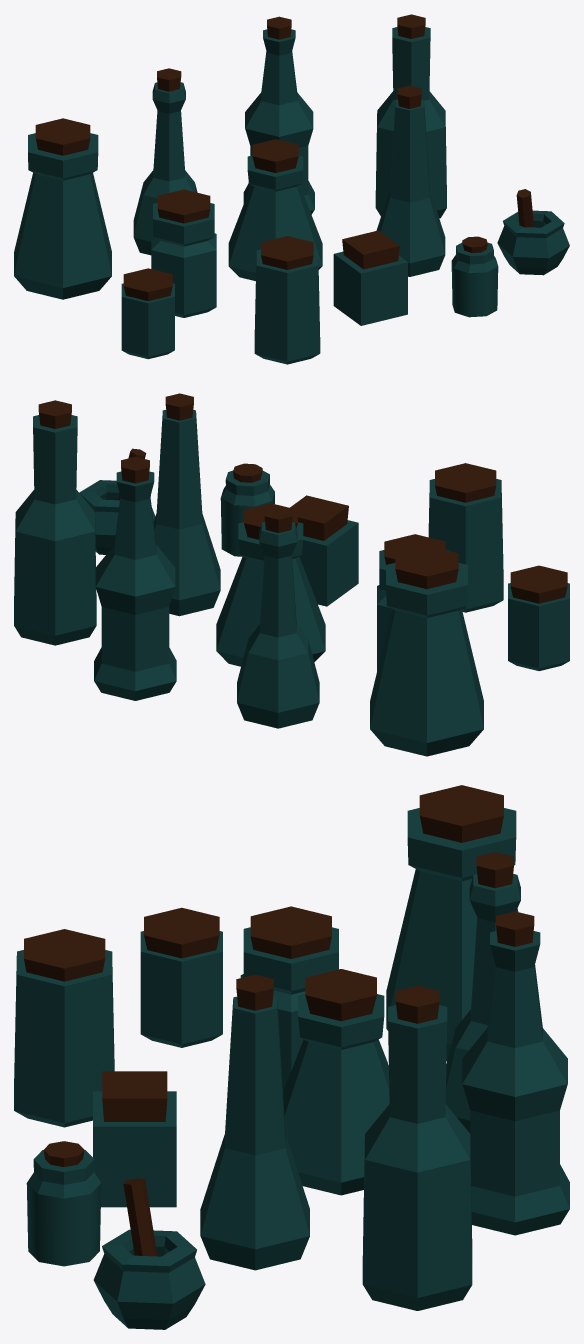
Rendered from Potions.fbx.
The picture shows the model from 3 angles, top to bottom: view 1: azimuth 30°, elevation 25°; view 2: azimuth 150°, elevation 25°; view 3: azimuth 270°, elevation 25°; orthographic projection. The views are drawn at different scales.
Parts seen in each view (by area): view 1: Cylinder1327, Cylinder1326, Cylinder1329, Cylinder021, Cylinder022, Cylinder1328, Cylinder003, Box028, Cylinder002, Cylinder024, ItemF_1531, Cylinder016 (+1 smaller); view 2: Cylinder1327, Cylinder1328, Cylinder003, Cylinder002, Cylinder1329, Cylinder1326, Cylinder021, Cylinder024, Box028, Cylinder016, ItemF_1531, Cylinder022 (+1 smaller); view 3: Cylinder1328, Cylinder003, Cylinder1329, Cylinder021, Cylinder1327, Cylinder1326, Cylinder024, Box028, Cylinder022, ItemF_1531, Cylinder016, Cylinder002 (+2 smaller).
Part boxes in pixels (x1,y1,x2,y2): Cylinder1327: (14,118,111,299); Cylinder1326: (254,236,320,364); Cylinder1329: (376,85,445,276); Cylinder021: (228,139,322,281); Cylinder022: (151,189,216,317); Cylinder1328: (375,14,446,218); Cylinder003: (243,16,314,214); Box028: (333,230,407,325); Cylinder002: (133,68,197,255); Cylinder024: (121,268,174,359); ItemF_1531: (497,210,569,275); Cylinder016: (451,242,498,317); Cylinder1327: (370,545,483,756); Cylinder1328: (14,400,96,645); Cylinder003: (94,456,176,700); Cylinder002: (237,506,319,728); Cylinder1329: (153,393,220,616); Cylinder1326: (428,463,503,612); Cylinder021: (216,503,325,666); Cylinder024: (508,565,569,670); Box028: (290,495,358,606); Cylinder016: (220,470,274,556); ItemF_1531: (79,480,155,554); Cylinder022: (377,534,450,670); Cylinder1328: (362,985,472,1310); Cylinder003: (462,911,569,1235); Cylinder1329: (200,974,309,1270); Cylinder021: (283,969,389,1195); Cylinder1327: (386,785,518,1061); Cylinder1326: (14,929,114,1127); Cylinder024: (140,907,222,1047); Box028: (93,1071,176,1207); Cylinder022: (240,906,338,1091); ItemF_1531: (93,1229,205,1329); Cylinder016: (26,1150,101,1266); Cylinder002: (445,852,520,1133).
Size of the model in its own units: 179 by 72.71 by 125.
